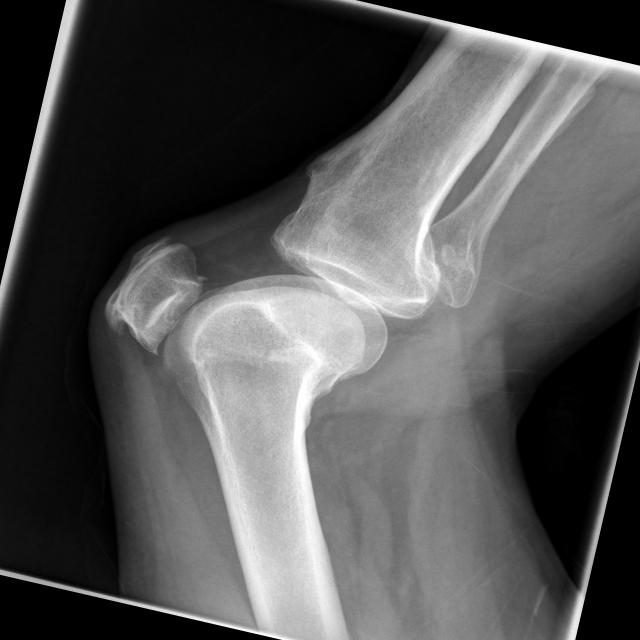Knee: (92, 171, 450, 433)
